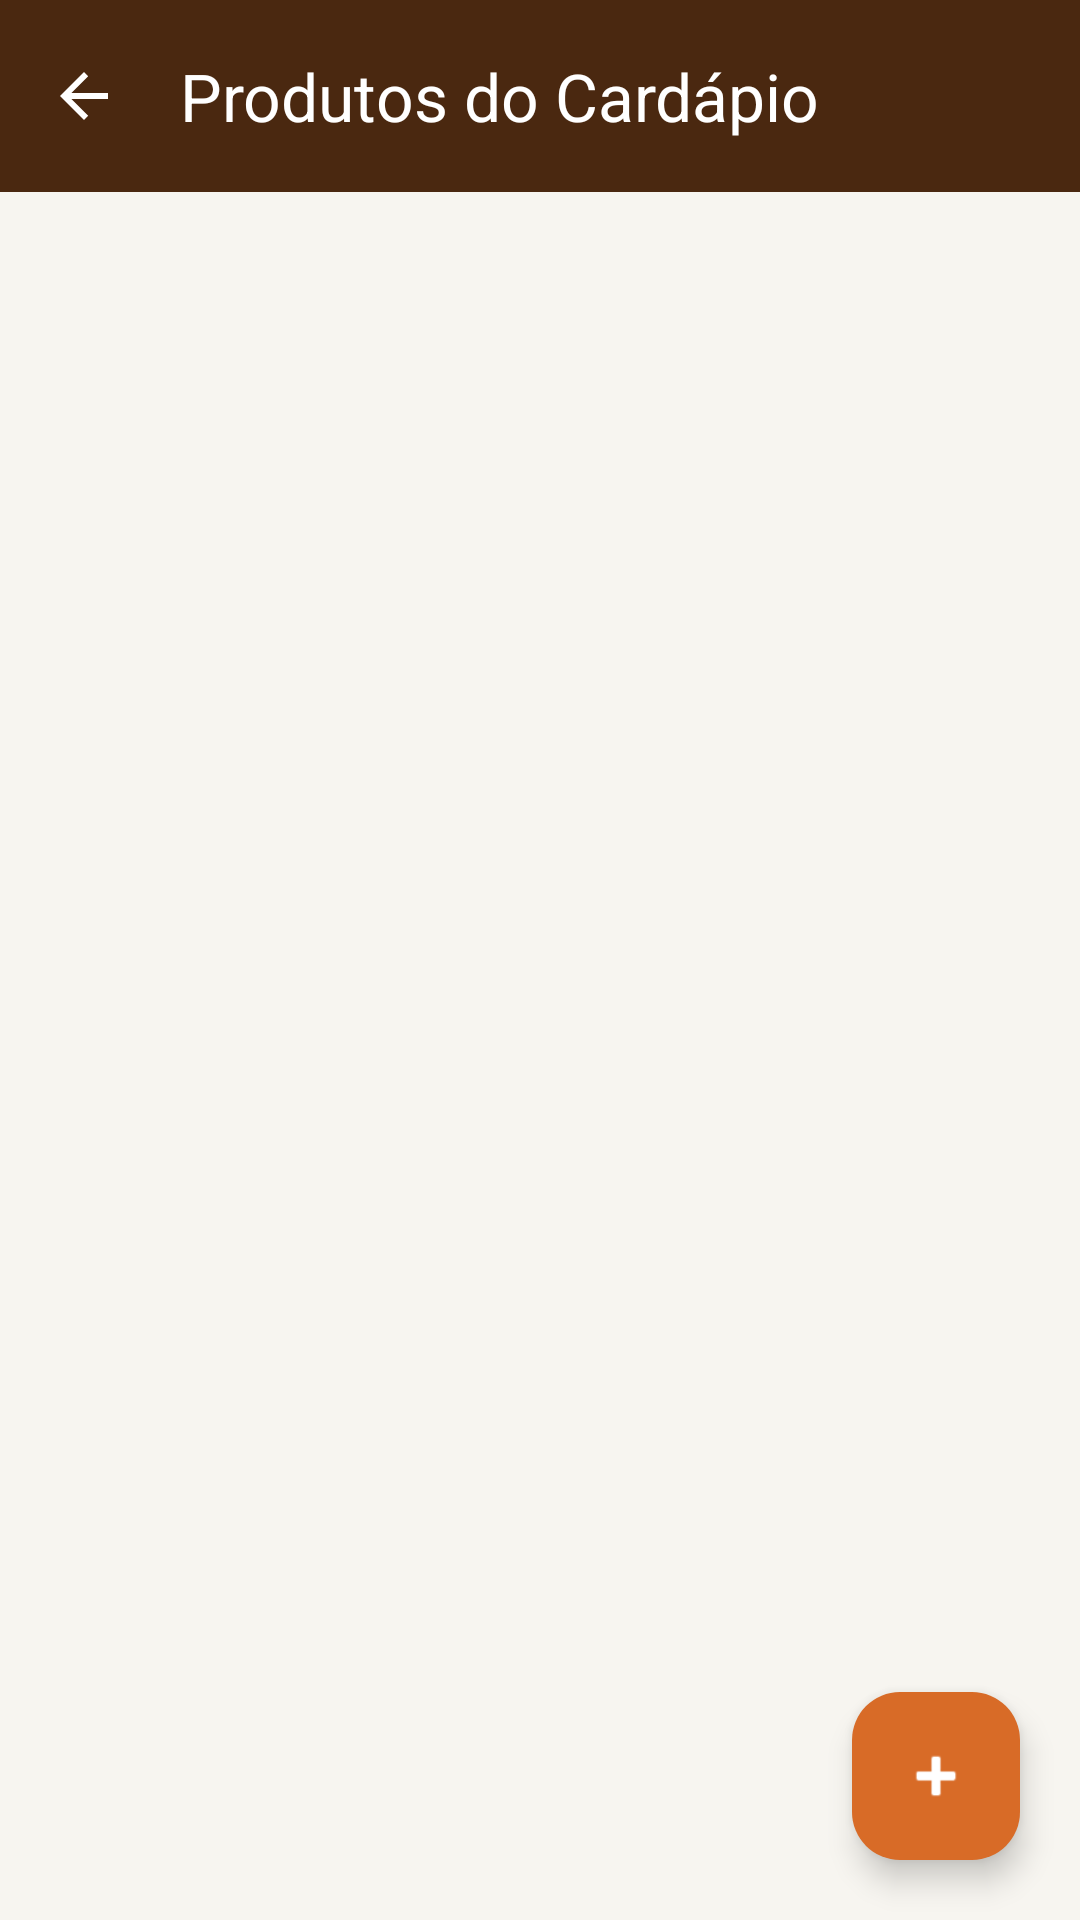

Icon bounding boxes for this 1080px×1920px phone screenshot, format (x1, y1, x2, y2):
Adicionar Produto: (852, 1692, 1020, 1860)
